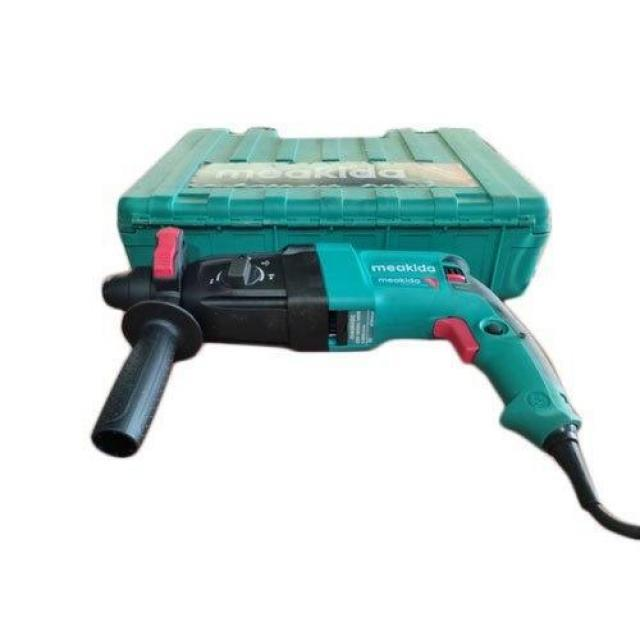drill: (89, 242, 601, 512)
